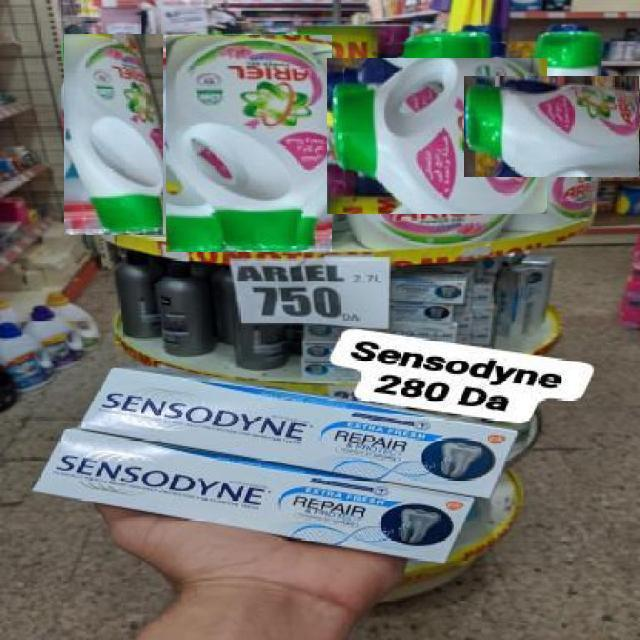Detergent: (165, 34, 332, 252), (328, 58, 547, 214), (63, 34, 163, 235), (465, 76, 640, 177)
